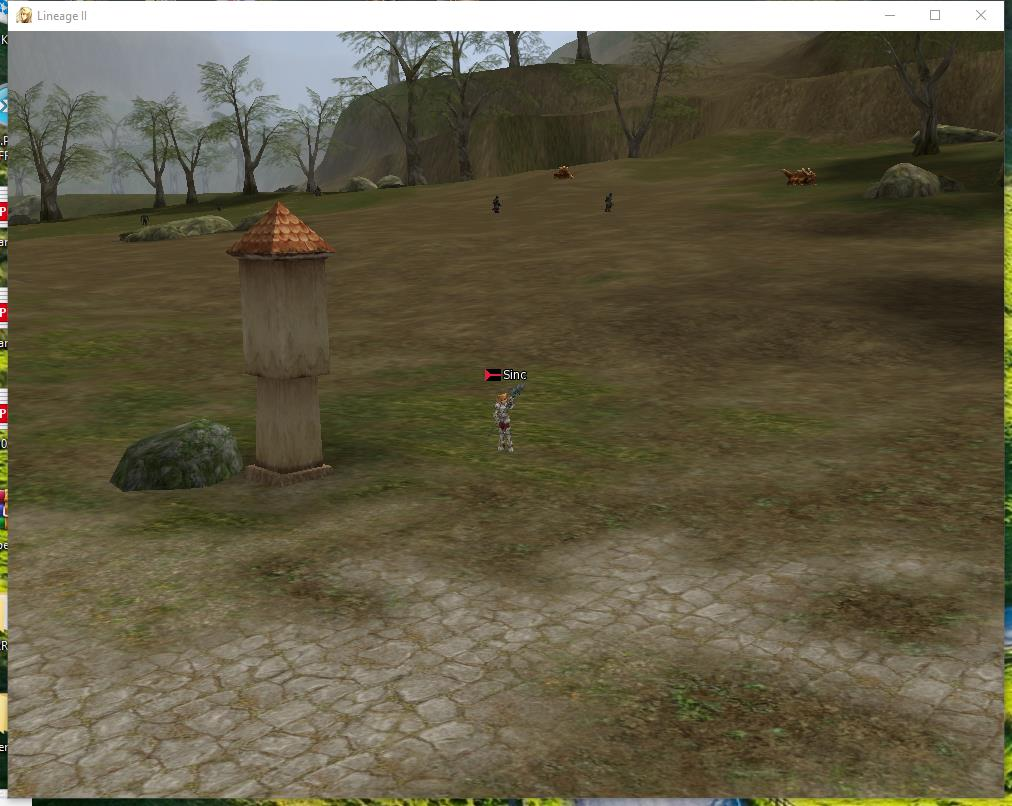monster: (783, 161, 831, 189), (550, 163, 578, 188), (491, 188, 508, 215), (603, 188, 611, 213)
